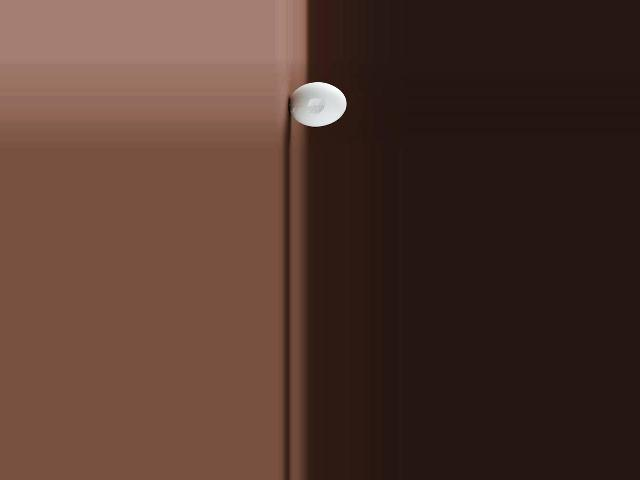egg: (289, 82, 346, 126)
